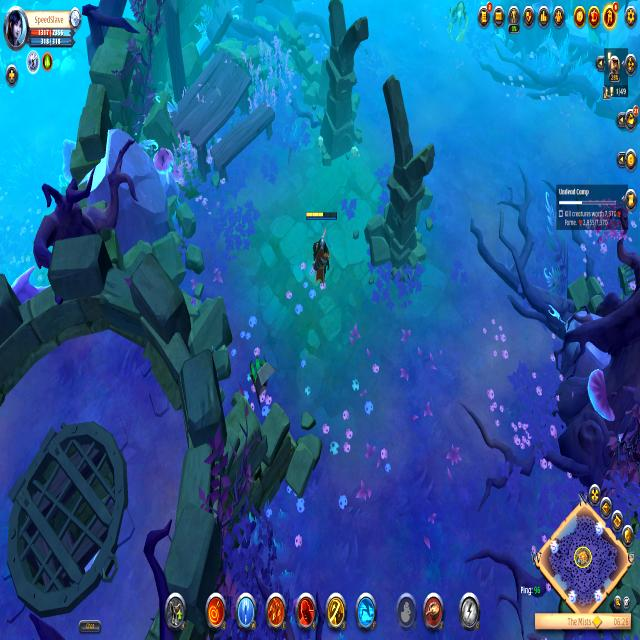ore: (446, 0, 472, 44)
red: (299, 203, 341, 294)
